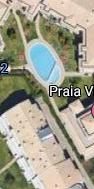pool: (26, 38, 66, 87)
